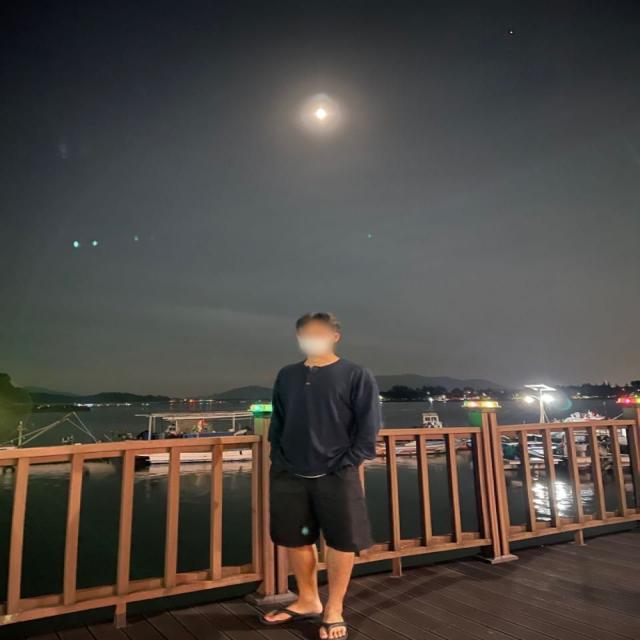longsleeve: (267, 356, 381, 477)
shortpants: (268, 463, 372, 551)
